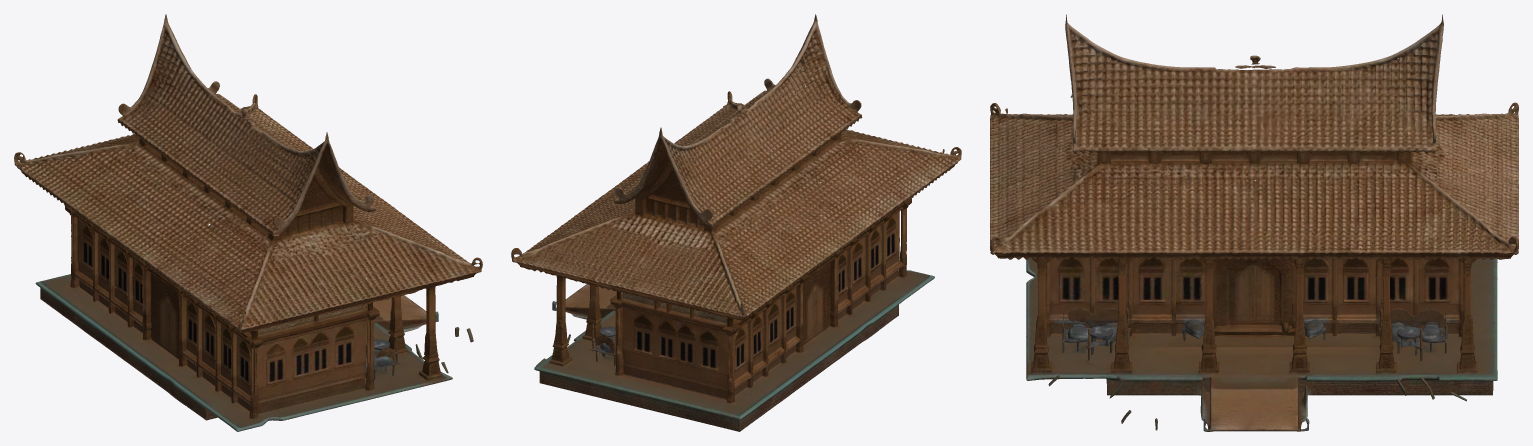
The model's file is RumahTradisional.glb.
3 views of the same model, side by side, from view 1: azimuth 30°, elevation 25°; view 2: azimuth 150°, elevation 25°; view 3: azimuth 270°, elevation 25° (orthographic). The views are drawn at different scales.
Parts seen in each view (by area): view 1: tripo_node_d083b99e-c66a-4fa9-8a50-8b3913d4a0b3; view 2: tripo_node_d083b99e-c66a-4fa9-8a50-8b3913d4a0b3; view 3: tripo_node_d083b99e-c66a-4fa9-8a50-8b3913d4a0b3.
Boxes of the visible parts, <box> form: tripo_node_d083b99e-c66a-4fa9-8a50-8b3913d4a0b3: <box>14,14,482,431</box>; tripo_node_d083b99e-c66a-4fa9-8a50-8b3913d4a0b3: <box>511,14,961,431</box>; tripo_node_d083b99e-c66a-4fa9-8a50-8b3913d4a0b3: <box>990,14,1518,431</box>.
Bounding box in the file's own units: 0.74 × 0.6742 × 1.
Materials: 1 (1 with a texture image).
